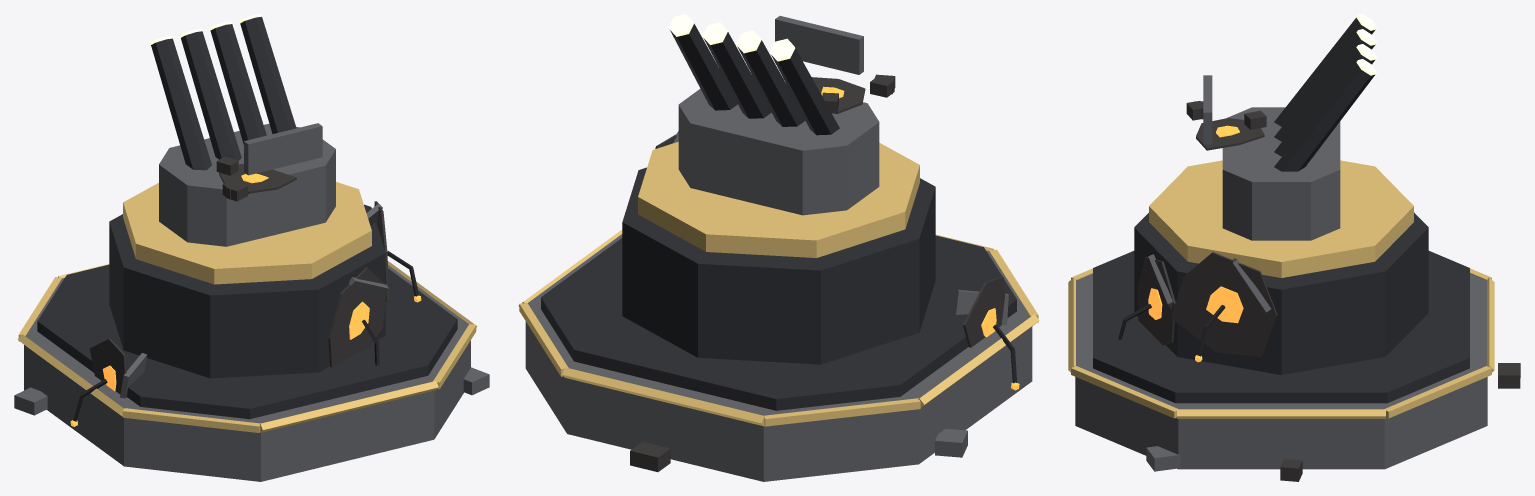
Rendered from Aegis_FlakBattery.fbx.
3 views of the same model, side by side, from view 1: azimuth 30°, elevation 25°; view 2: azimuth 150°, elevation 25°; view 3: azimuth 270°, elevation 25° (orthographic). The views are drawn at different scales.
Visible parts, largest first — view 1: FB_Plinth, FB_Base, FB_PlinthTop, FB_Ring, FB_Cradle, FB_Tube0, FB_Tube1, Aegis_FlakBattery_DmgScorch1, FB_Tube2, FB_Tube3, FB_Radar, FB_PlinthTrim0 (+10 smaller); view 2: FB_Base, FB_Plinth, FB_PlinthTop, FB_Cradle, FB_Ring, FB_Radar, FB_Tube0, FB_Tube3, FB_Tube2, FB_Tube1, FB_PlinthTrim4, FB_PlinthTrim5 (+8 smaller); view 3: FB_Plinth, FB_PlinthTop, FB_Base, FB_Ring, FB_Cradle, Aegis_FlakBattery_DmgScorch0, FB_Tube3, FB_PlinthTrim2, Aegis_FlakBattery_DmgScorch1, FB_Tube0, FB_Tube1, FB_Tube2 (+10 smaller).
Boxes of the visible parts, left/top/right/bottom form: FB_Plinth: left=24, top=265, right=470, bottom=481; FB_Base: left=109, top=204, right=385, bottom=378; FB_PlinthTop: left=37, top=264, right=457, bottom=419; FB_Ring: left=123, top=182, right=371, bottom=284; FB_Cradle: left=159, top=123, right=335, bottom=246; FB_Tube0: left=151, top=38, right=211, bottom=170; FB_Tube1: left=181, top=31, right=241, bottom=160; Aegis_FlakBattery_DmgScorch1: left=328, top=267, right=386, bottom=367; FB_Tube2: left=210, top=24, right=266, bottom=144; FB_Tube3: left=240, top=16, right=296, bottom=134; FB_Radar: left=244, top=123, right=322, bottom=175; FB_PlinthTrim0: left=260, top=381, right=438, bottom=432; FB_Base: left=622, top=167, right=935, bottom=364; FB_Plinth: left=525, top=234, right=1032, bottom=481; FB_PlinthTop: left=541, top=235, right=1016, bottom=410; FB_Cradle: left=678, top=88, right=879, bottom=215; FB_Ring: left=638, top=141, right=919, bottom=257; FB_Radar: left=775, top=16, right=863, bottom=74; FB_Tube0: left=771, top=48, right=839, bottom=135; FB_Tube3: left=670, top=23, right=737, bottom=110; FB_Tube2: left=703, top=32, right=771, bottom=118; FB_Tube1: left=737, top=40, right=805, bottom=126; FB_PlinthTrim4: left=562, top=367, right=764, bottom=426; FB_PlinthTrim5: left=764, top=398, right=920, bottom=426; FB_Plinth: left=1075, top=273, right=1487, bottom=469; FB_PlinthTop: left=1093, top=251, right=1469, bottom=403; FB_Base: left=1134, top=212, right=1428, bottom=374; FB_Ring: left=1149, top=160, right=1413, bottom=277; FB_Cradle: left=1222, top=107, right=1340, bottom=240; Aegis_FlakBattery_DmgScorch0: left=1170, top=252, right=1277, bottom=357; FB_Tube3: left=1274, top=62, right=1374, bottom=171; FB_PlinthTrim2: left=1177, top=409, right=1385, bottom=418; Aegis_FlakBattery_DmgScorch1: left=1137, top=257, right=1175, bottom=345; FB_Tube0: left=1274, top=17, right=1375, bottom=126; FB_Tube1: left=1274, top=32, right=1375, bottom=141; FB_Tube2: left=1274, top=47, right=1374, bottom=156.
Bounding box in the file's own units: 1.61 × 1.29 × 1.53.
